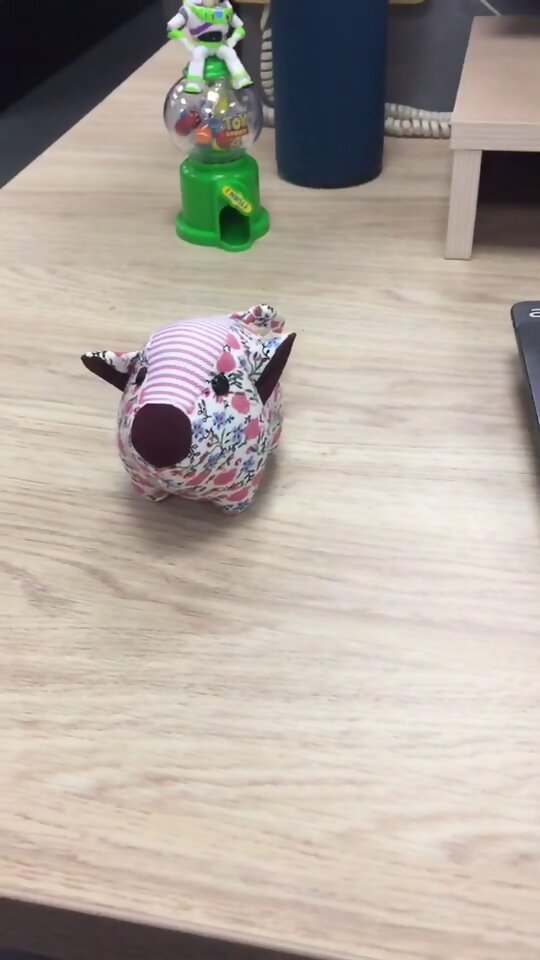pig: (75, 296, 304, 518)
